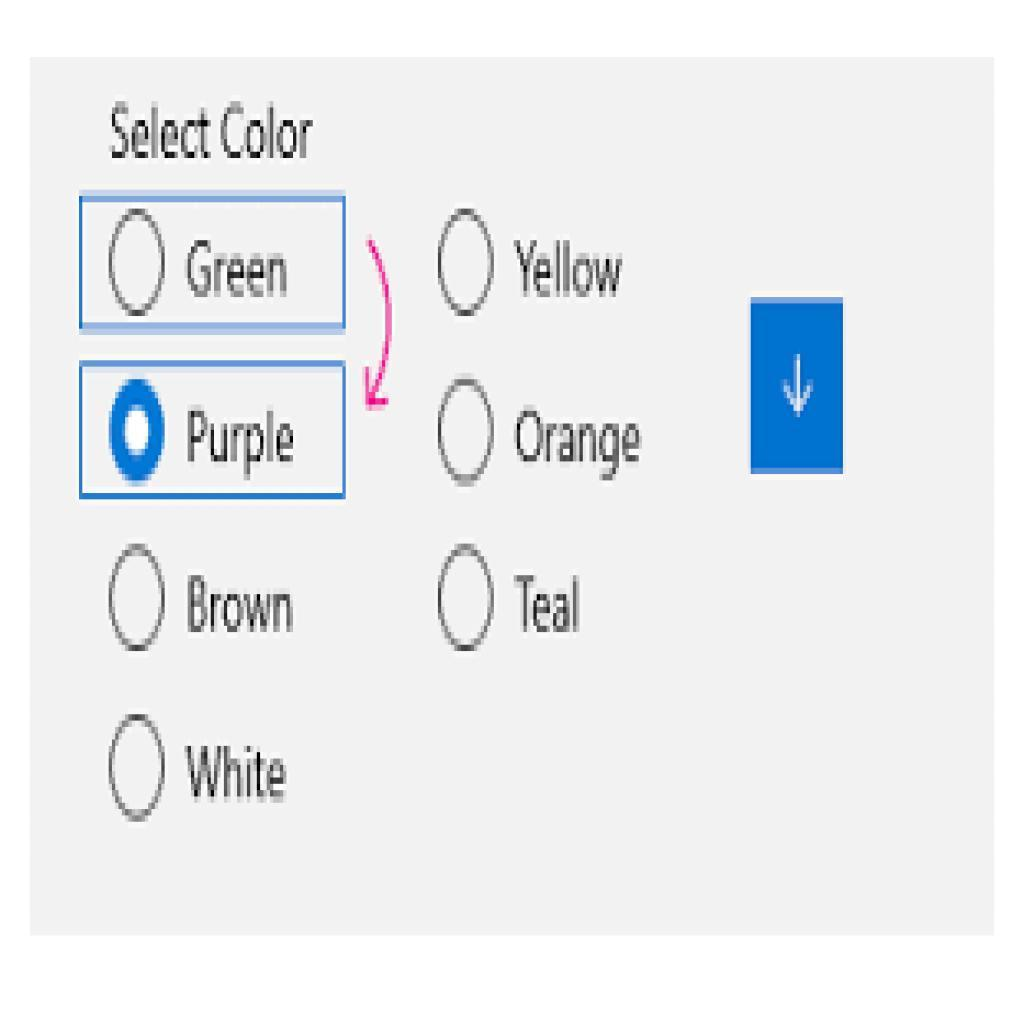icon: (750, 295, 846, 476)
radio: (102, 534, 175, 669), (431, 371, 503, 493), (427, 544, 499, 665), (101, 372, 176, 488), (431, 202, 498, 330), (104, 712, 181, 823), (103, 211, 172, 316)
